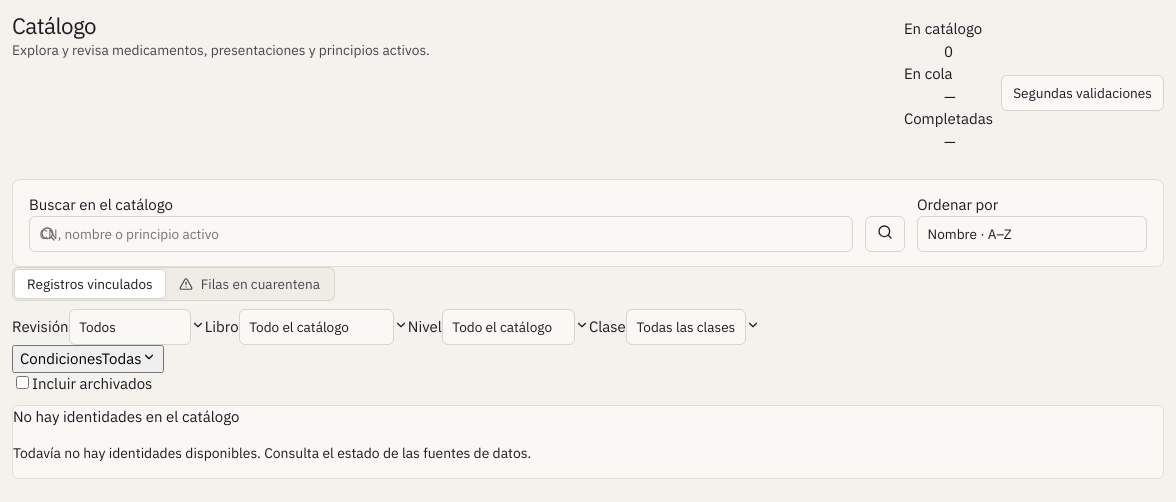
Test: limpia también una búsqueda escrita pero todavía no aplicada
Expected: the text "No hay identidades en el catálogo" is shown, [13,407,239,426]
Type "texto pendiente" into the search field at (441, 234), box [29,216,853,252]
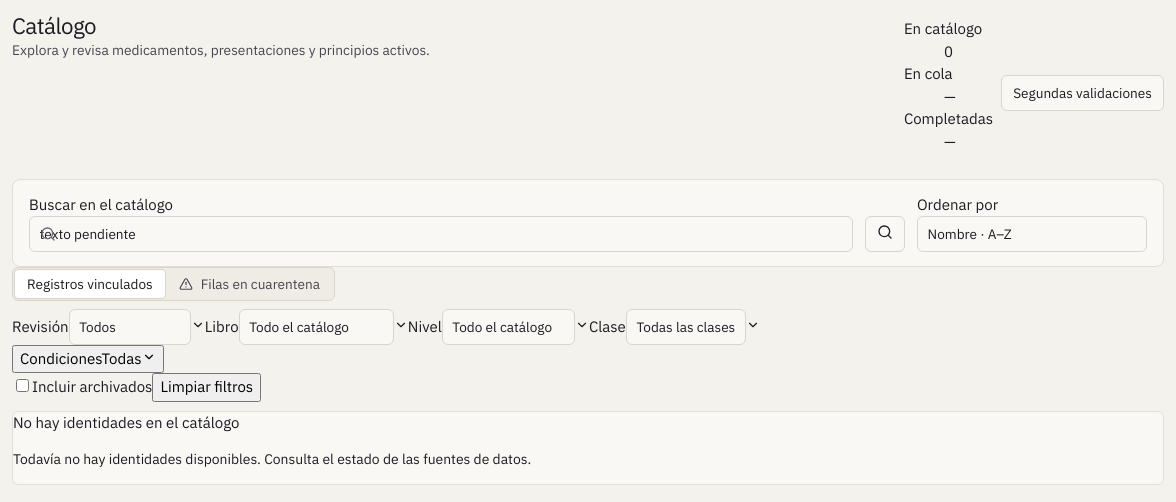
Click the button "Limpiar filtros" at (207, 388), box [152,373,261,402]
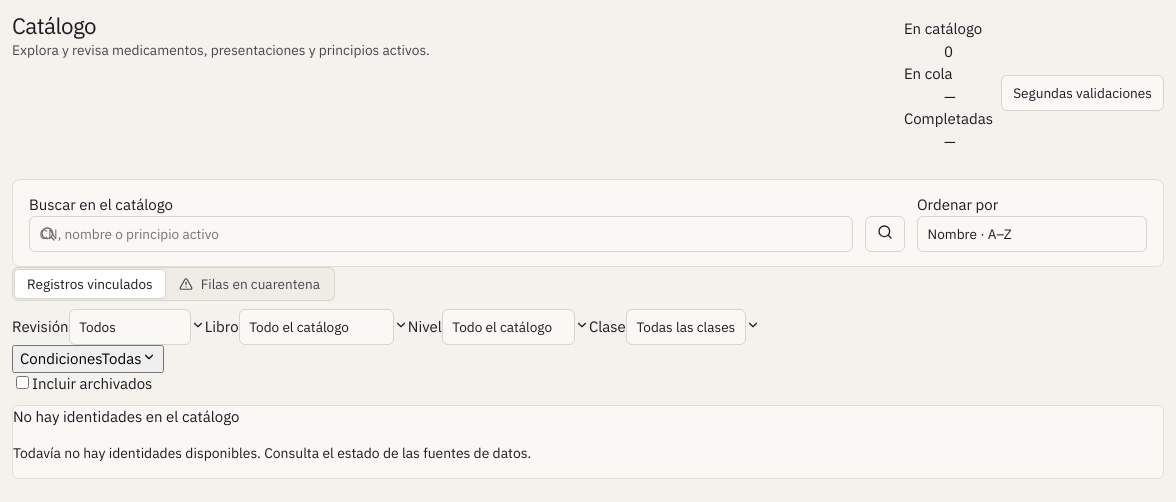
Now the search field is empty, box [29,216,853,252]
